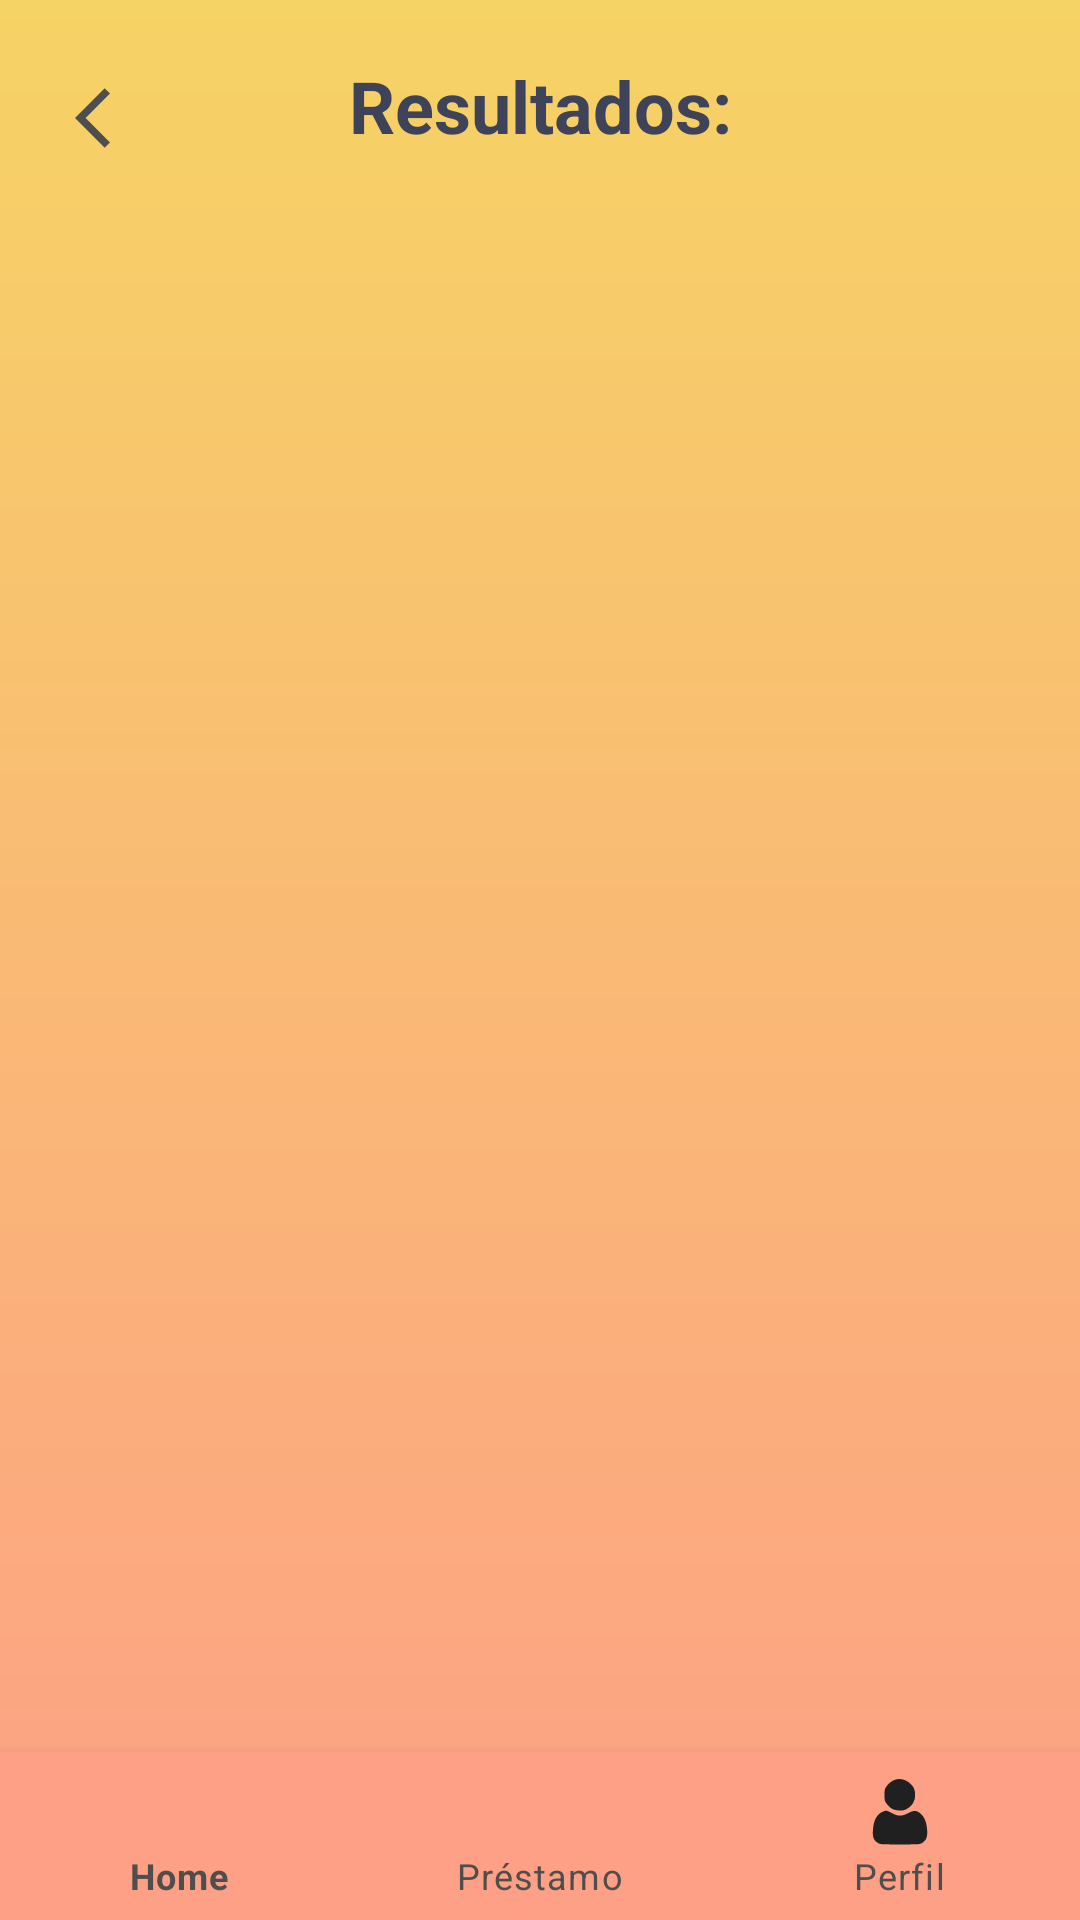

Screen size 1080x1920. Icon name, then its box in pixels as [x1=x1, y1=y1, x2=x2, y2=y2]:
arrow: [x1=75, y1=88, x2=110, y2=148]
